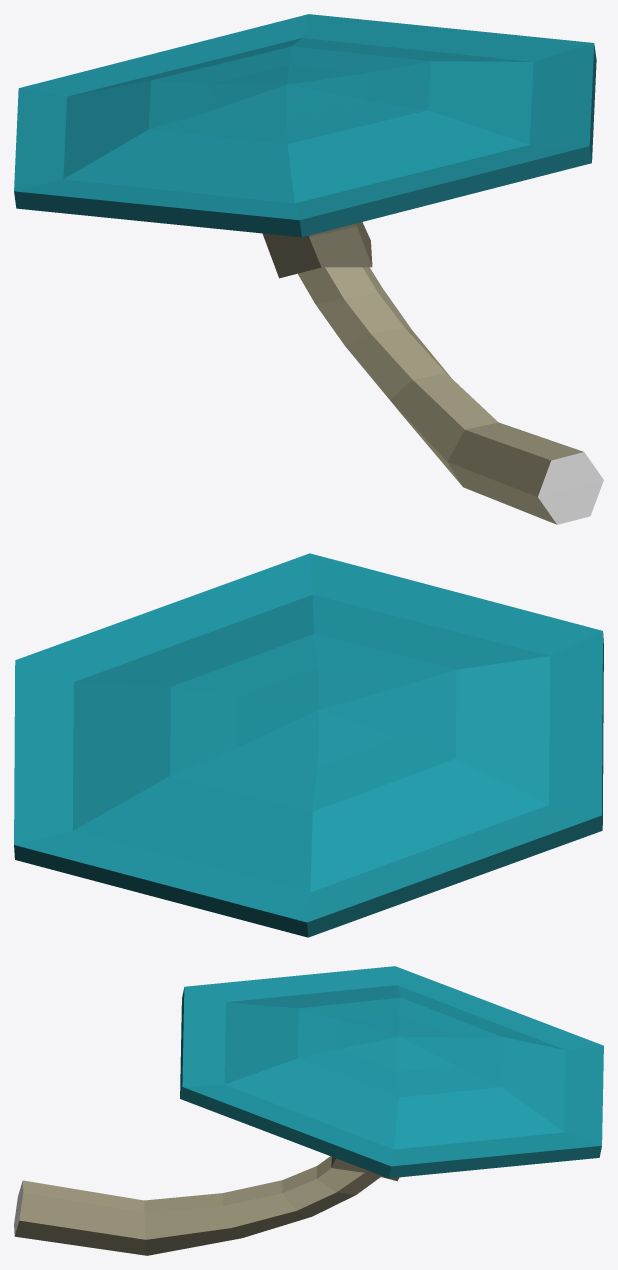
The model's file is mushroom.fbx.
3 views of the same model, one above another, from view 1: azimuth 30°, elevation 25°; view 2: azimuth 150°, elevation 25°; view 3: azimuth 270°, elevation 25° (orthographic). The views are drawn at different scales.
Parts seen in each view (by area): view 1: grzyb; view 2: grzyb; view 3: grzyb.
Part boxes in pixels (x1,y1,x2,y2): grzyb: [14, 14, 603, 524]; grzyb: [14, 553, 603, 937]; grzyb: [14, 966, 603, 1255].
Bounding box in the file's own units: 1724 × 817 × 2072.
